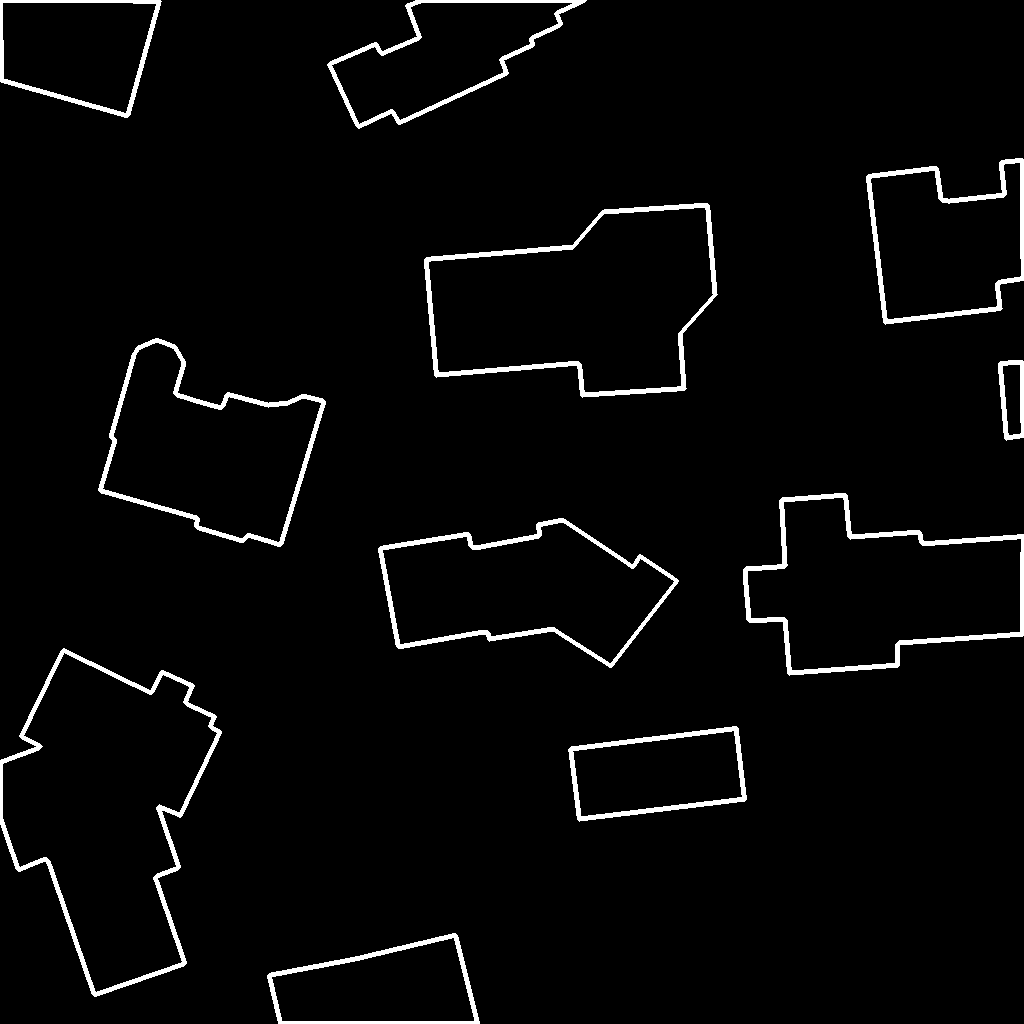building: (0, 650, 221, 996), (426, 205, 716, 396), (745, 495, 1024, 674), (100, 340, 325, 546), (380, 520, 678, 667), (329, 0, 587, 128), (868, 160, 1024, 323), (0, 0, 161, 117), (269, 935, 479, 1024), (570, 728, 746, 820), (1000, 362, 1024, 439)
